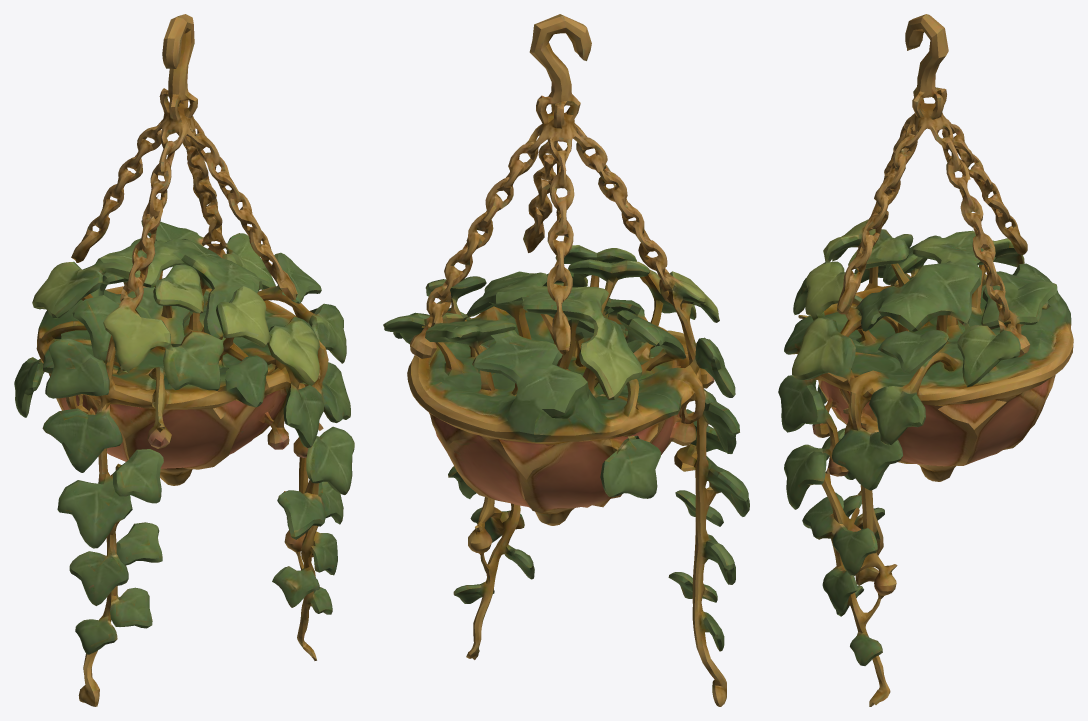
Rendered from Meshy_AI_model.glb.
3 renders of one model, left to right at view 1: azimuth 30°, elevation 25°; view 2: azimuth 150°, elevation 25°; view 3: azimuth 270°, elevation 25°, orthographic. The views are drawn at different scales.
Parts seen in each view (by area): view 1: Mesh0; view 2: Mesh0; view 3: Mesh0.
Boxes of the visible parts, box(x1,y1,x2,y2) form: Mesh0: box(14, 14, 354, 706); Mesh0: box(383, 14, 749, 706); Mesh0: box(778, 14, 1073, 706).
Size of the model in its own units: 0.9462 by 1.89 by 0.7929.
Materials: 1 (1 with a texture image).
